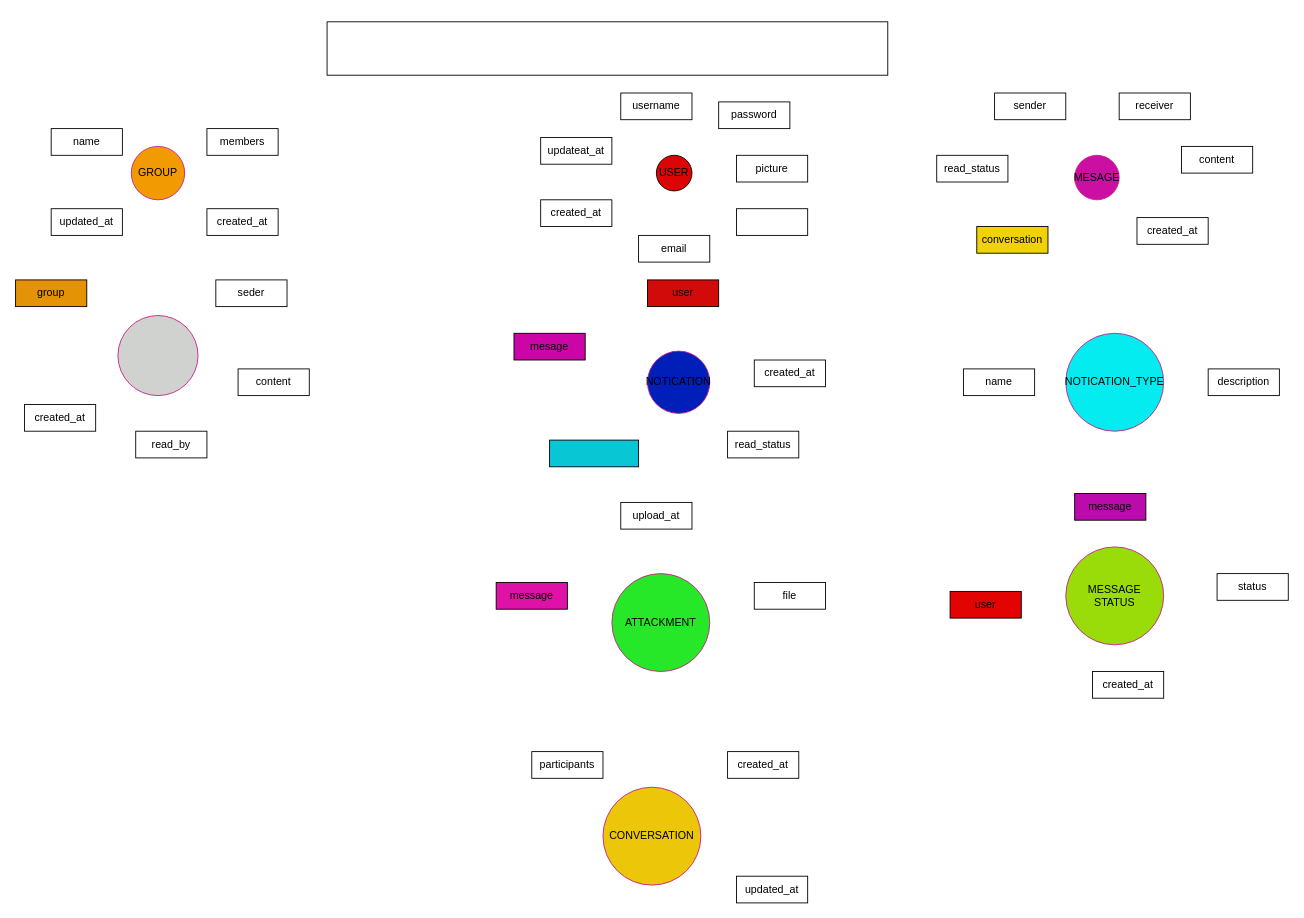
The diagram is 1304 pixels wide and 918 high, and some of its shapes have lost their labels. The shapes that lost their labels are listed below. From the top down, each one's box as (x1, y1, x2, y2) in pixels, then its label:
(326, 21, 888, 75): XÂY DỰNG CHỨC NĂNG CHAT
(736, 208, 808, 235): role
(117, 315, 198, 396): GROUP MESSAGE
(549, 439, 639, 467): nofitication_type
